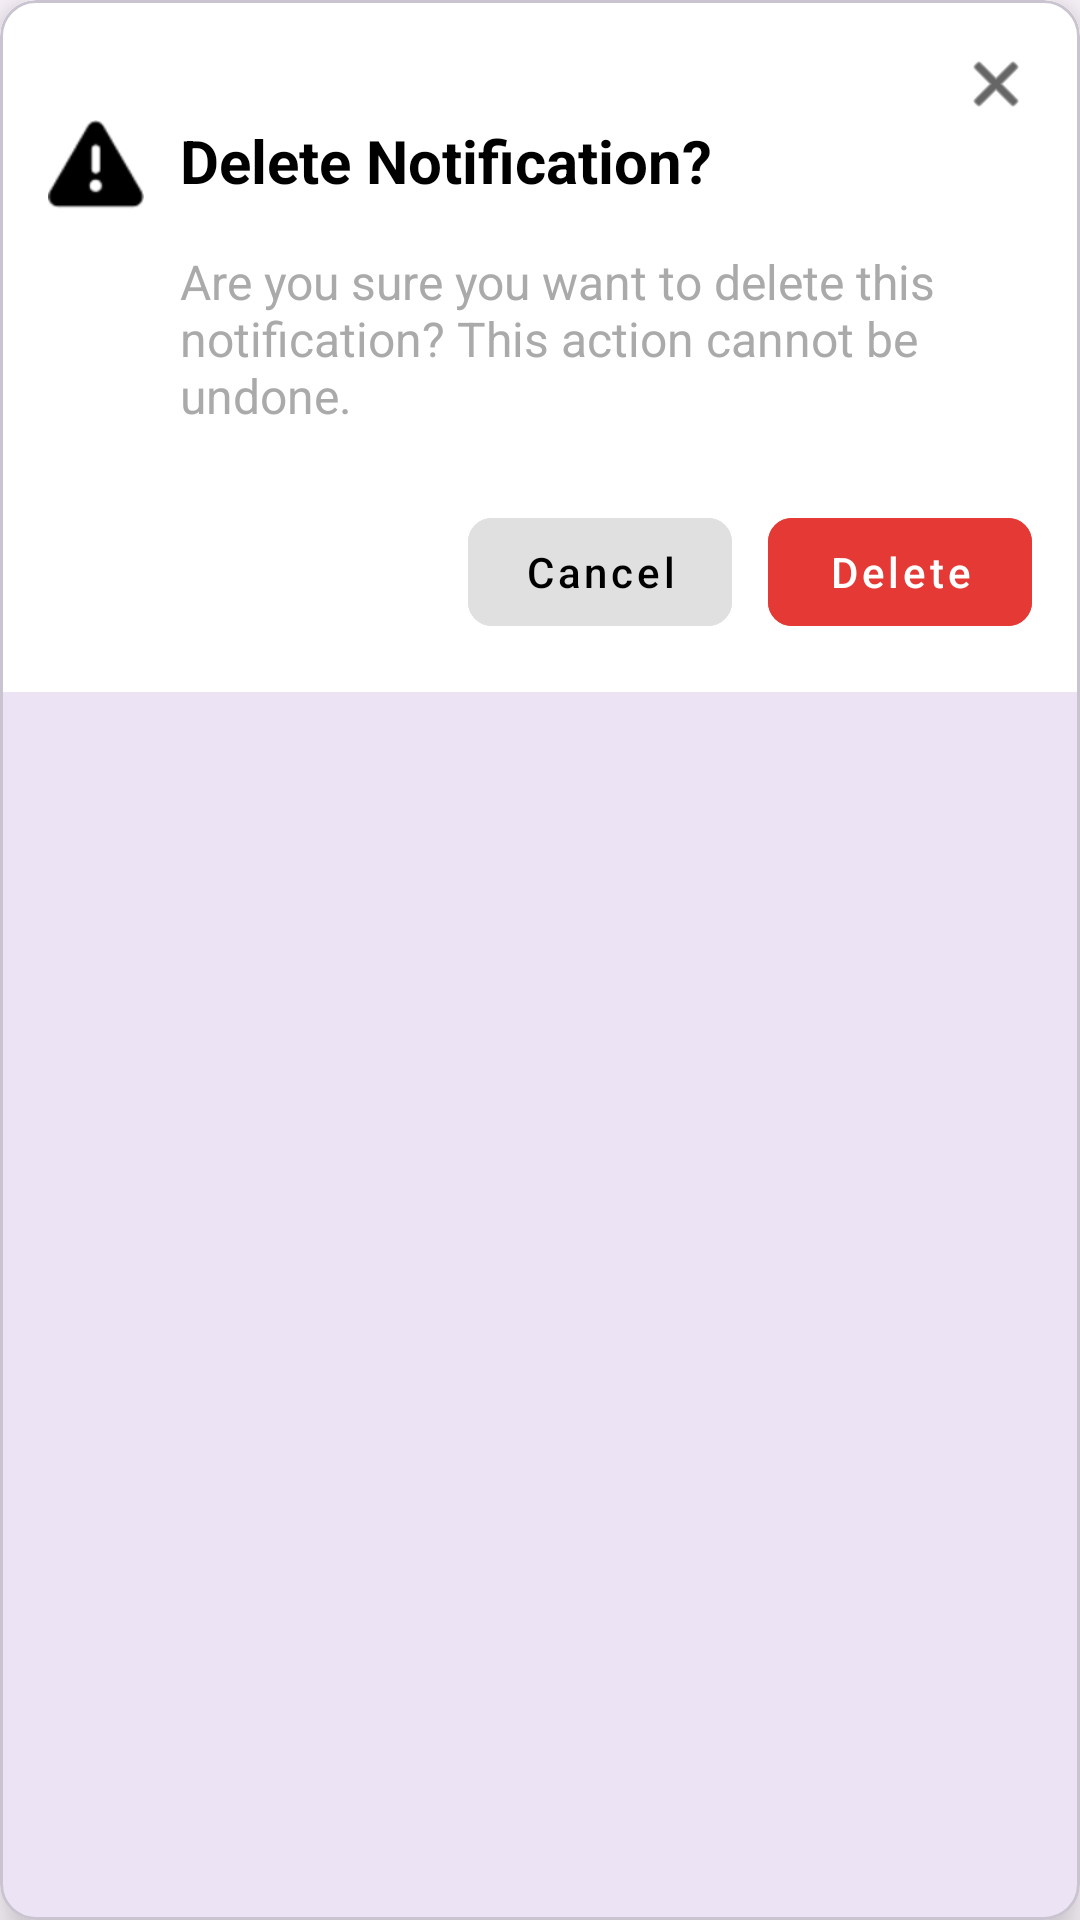

Point at icon controls on the screen. Image size 1080px x 1920px, points as (x,y).
Alert icon: (96,164)
Close dialog: (996,84)
